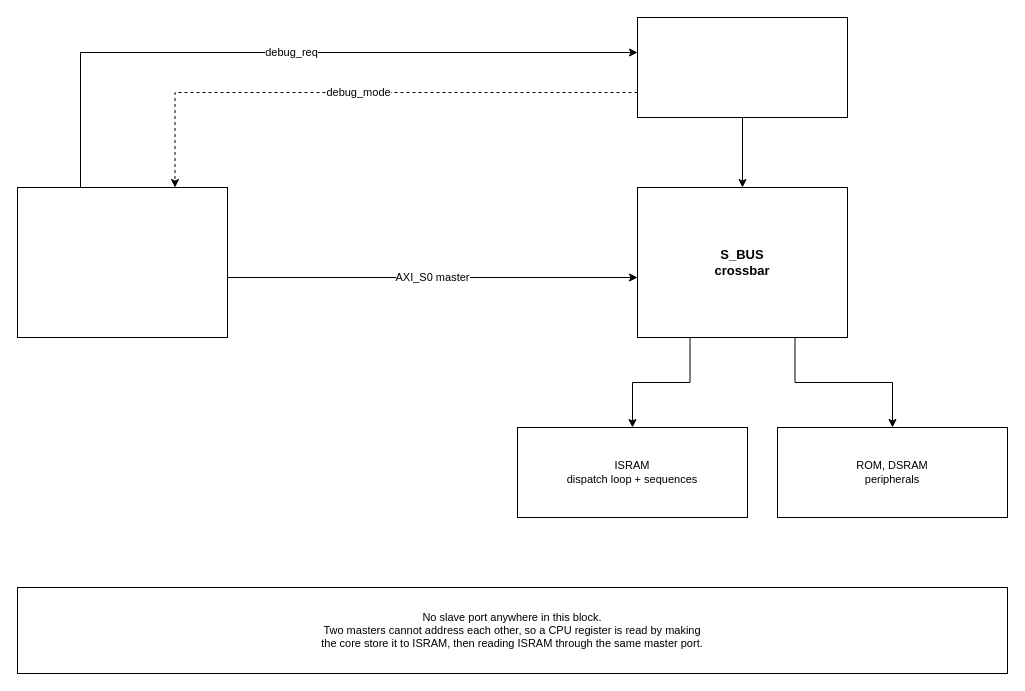
The diagram is 1025 pixels wide and 691 high, and some of its shapes have lost their labels. The centre of each missing label's shape, as x and y in pixels:
Ibex CPU master only: [742,67]
SYSDBG master only: [122,262]
